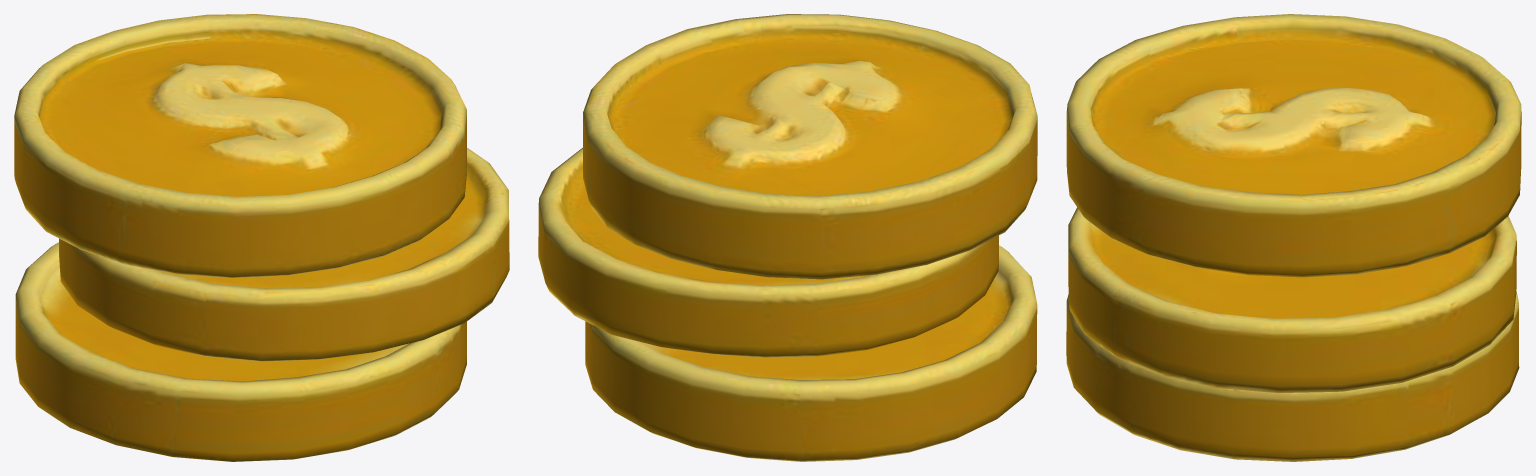
Rendered from Coins.fbx.
The picture shows the model from 3 angles, left to right: view 1: azimuth 30°, elevation 25°; view 2: azimuth 150°, elevation 25°; view 3: azimuth 270°, elevation 25°; orthographic projection.
Parts seen in each view (by area): view 1: tripo_node_7f7d3ebd; view 2: tripo_node_7f7d3ebd; view 3: tripo_node_7f7d3ebd.
Part boxes in pixels (x1,y1,x2,y2): tripo_node_7f7d3ebd: [14, 14, 509, 461]; tripo_node_7f7d3ebd: [538, 14, 1037, 461]; tripo_node_7f7d3ebd: [1066, 14, 1521, 461].
Bounding box in the file's own units: 99.88 × 57.45 × 90.35.
Materials: 1 (1 with a texture image).
